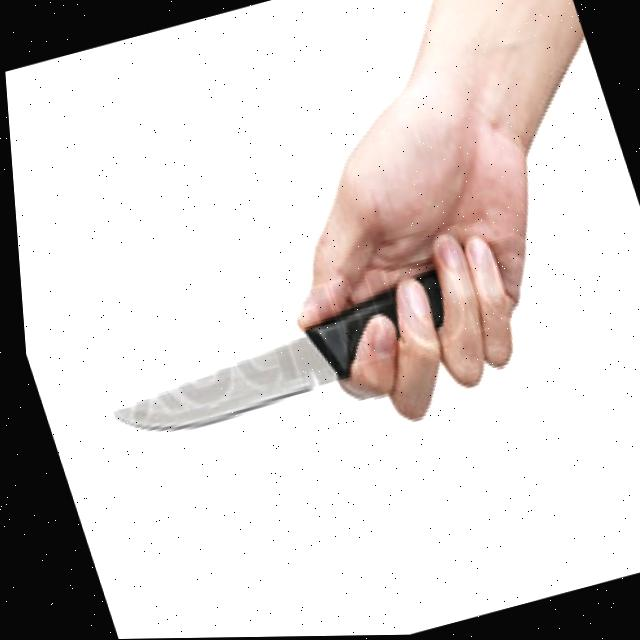knife: (79, 284, 355, 458)
